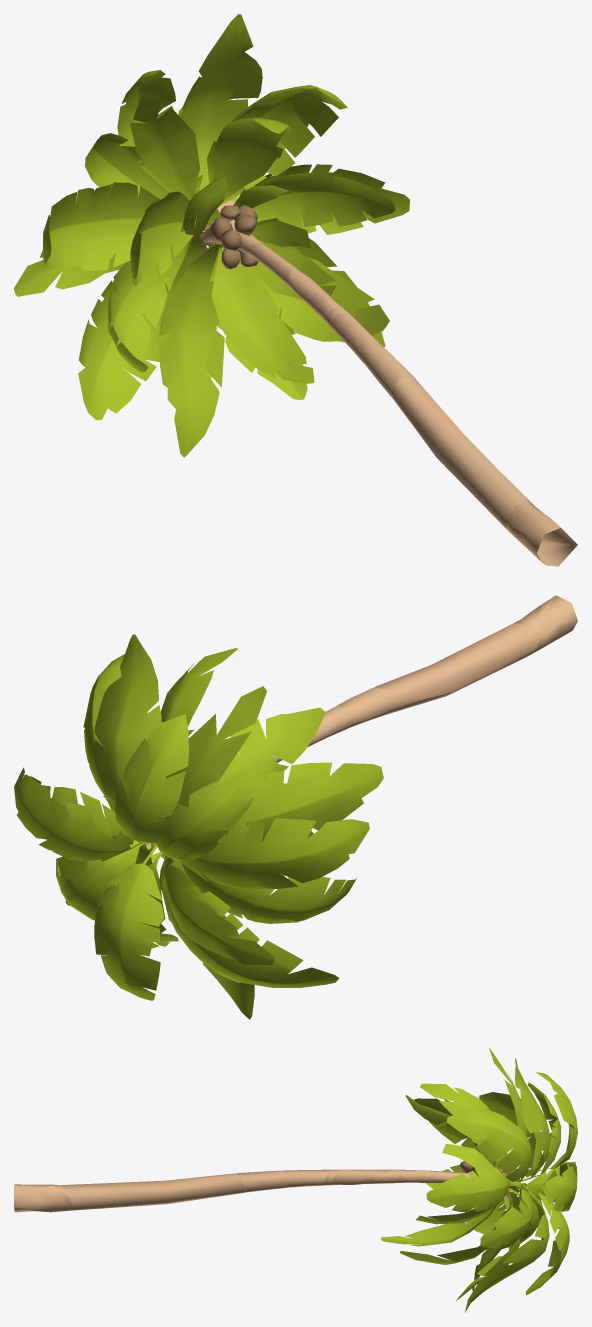
File: coconut_tree.fbx
3 views of the same model, one above another, from view 1: azimuth 30°, elevation 25°; view 2: azimuth 150°, elevation 25°; view 3: azimuth 270°, elevation 25° (orthographic). The views are drawn at different scales.
Visible parts, largest first — view 1: export_coconut_tree; view 2: export_coconut_tree; view 3: export_coconut_tree.
Part boxes in pixels (x1,y1,x2,y2): export_coconut_tree: (14, 14, 577, 566); export_coconut_tree: (14, 595, 577, 1019); export_coconut_tree: (14, 1048, 577, 1312).
Size of the model in its own units: 338 by 357 by 691.
